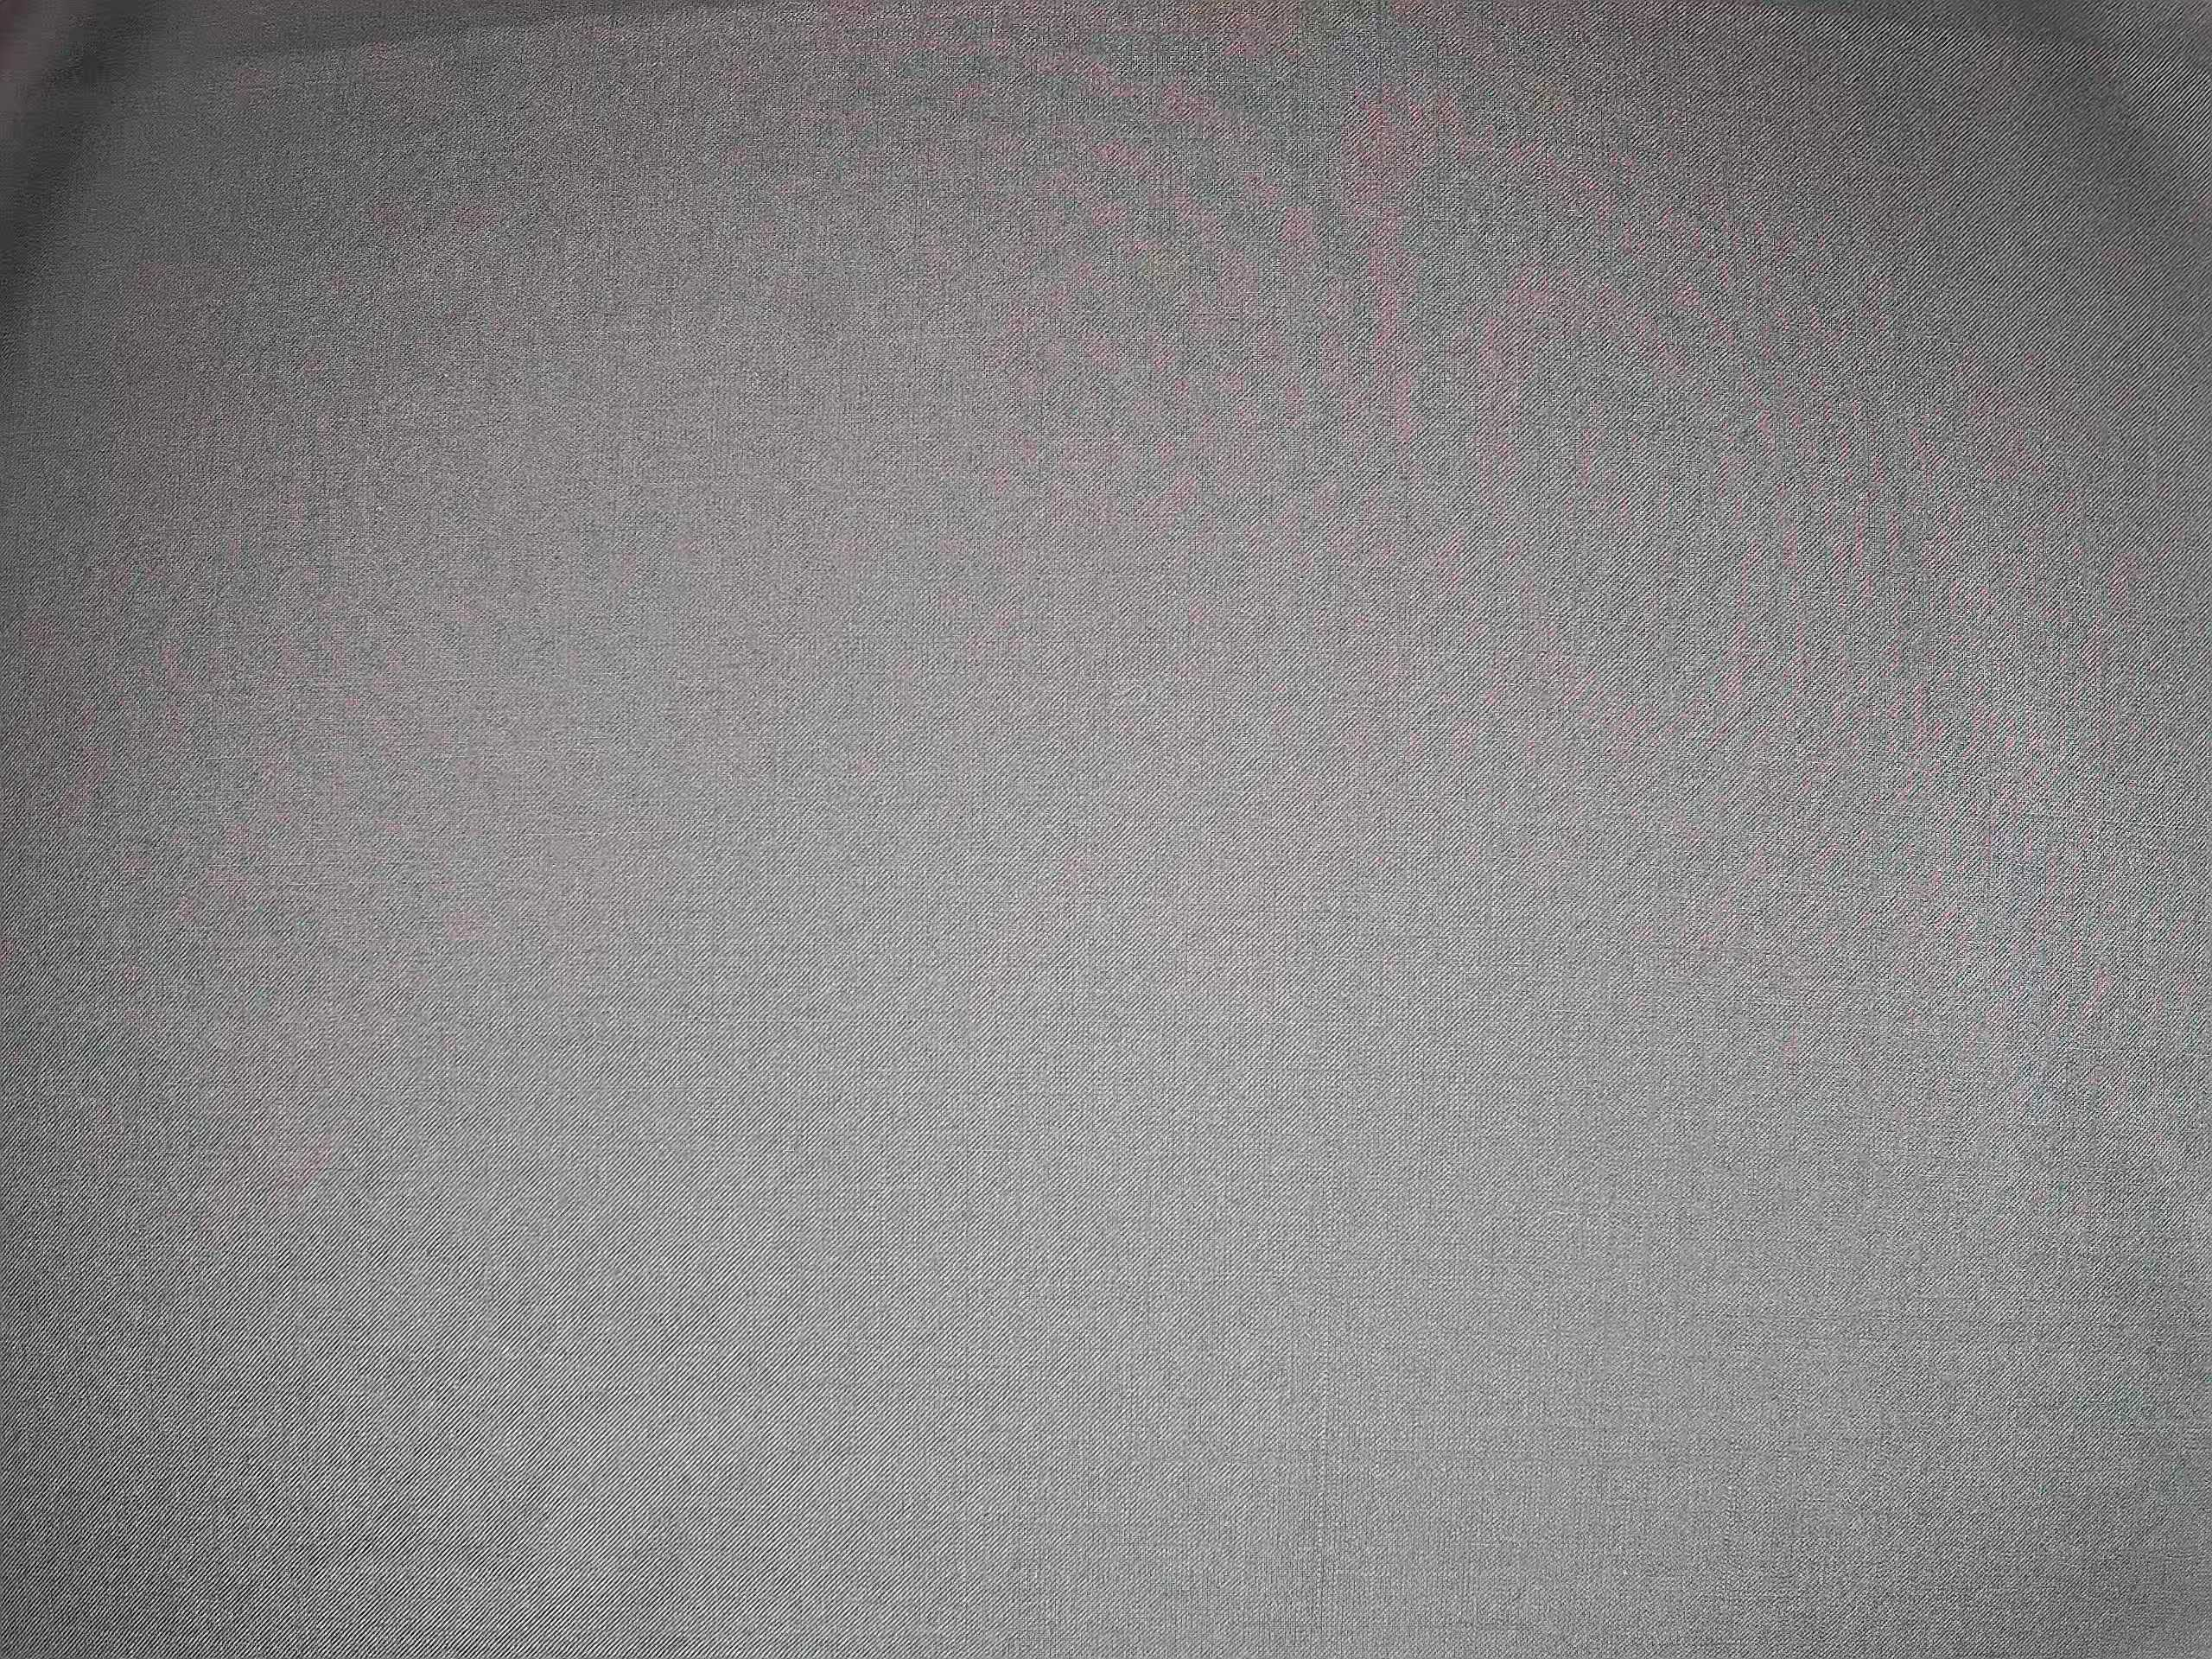hanging-warp: (1301, 1324, 1345, 1654)
